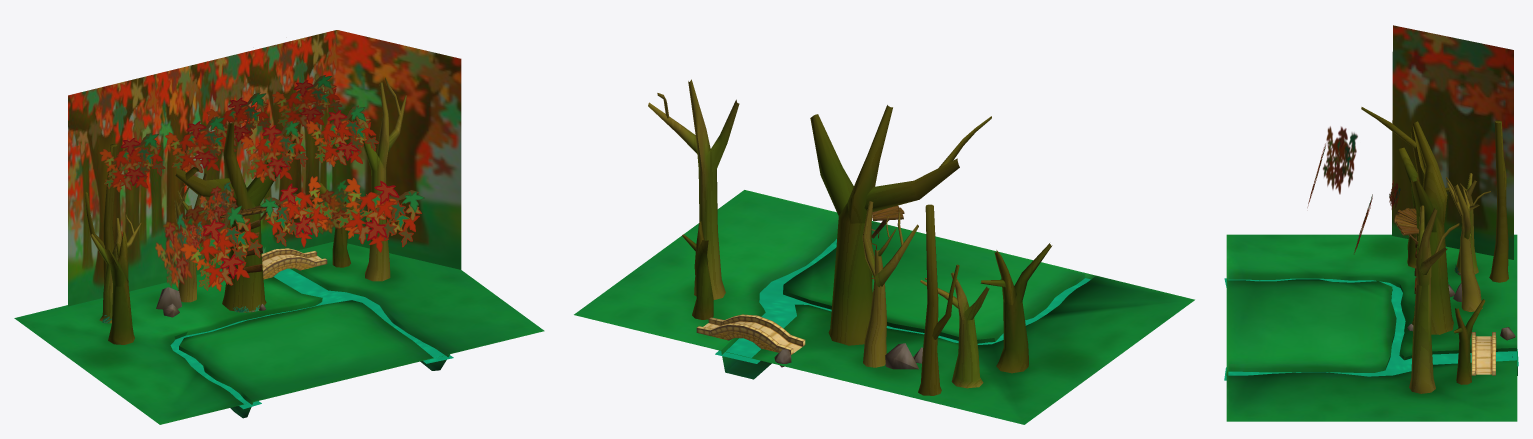
The model's file is treehouse_4players.glb.
3 renders of one model, left to right at view 1: azimuth 30°, elevation 25°; view 2: azimuth 150°, elevation 25°; view 3: azimuth 270°, elevation 25°, orthographic. The views are drawn at different scales.
Visible parts, largest first — view 1: forest3, polySurface25, polySurface24, polySurface72, polySurface55, polySurface23, polySurface22, polySurface38, water_level, polySurface75, tree_g1_tree_g, polySurface2 (+11 smaller); view 2: polySurface25, polySurface38, tree_g1_tree_g, water_level, pCylinder2, polySurface2, new_brideg, o16, polySurface36, polySurface16, treeb, tree_f1_tree_f (+1 smaller); view 3: polySurface25, forest3, tree_g1_tree_g, polySurface38, water_level, pCylinder2, polySurface40, treeb, tree_f1_tree_f, polySurface2, o16, bridge_ground (+5 smaller).
Part boxes in pixels (box(x1,y1,x2,y2)): forest3: box(68, 30, 461, 306); polySurface25: box(14, 241, 544, 424); polySurface24: box(240, 105, 378, 182); polySurface72: box(99, 116, 236, 192); polySurface55: box(206, 75, 341, 146); polySurface23: box(336, 178, 424, 252); polySurface22: box(180, 205, 262, 291); polySurface38: box(222, 120, 266, 312); water_level: box(170, 268, 453, 409); polySurface75: box(260, 176, 333, 247); tree_g1_tree_g: box(354, 77, 406, 281); polySurface2: box(104, 248, 134, 344); polySurface25: box(574, 190, 1194, 424); polySurface38: box(828, 105, 892, 345); tree_g1_tree_g: box(648, 79, 739, 299); water_level: box(715, 239, 1090, 363); pCylinder2: box(918, 204, 941, 395); polySurface2: box(996, 243, 1052, 373); new_brideg: box(696, 314, 805, 354); o16: box(810, 114, 853, 215); polySurface36: box(864, 158, 959, 211); polySurface16: box(950, 272, 983, 388); treeb: box(863, 250, 886, 367); tree_f1_tree_f: box(682, 221, 713, 319); polySurface25: box(1226, 234, 1517, 421); forest3: box(1392, 25, 1513, 259); tree_g1_tree_g: box(1409, 205, 1459, 393); polySurface38: box(1412, 121, 1453, 334); water_level: box(1224, 278, 1518, 380); pCylinder2: box(1489, 120, 1508, 282); polySurface40: box(1323, 126, 1357, 194); treeb: box(1460, 213, 1482, 311); tree_f1_tree_f: box(1453, 299, 1485, 384); polySurface2: box(1398, 147, 1418, 268); o16: box(1410, 177, 1436, 232); bridge_ground: box(1476, 336, 1491, 374).
Size of the model in its own units: 75.21 by 50.06 by 50.1.
Materials: 21 (21 with a texture image).
